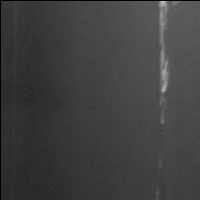scratches: (155, 1, 173, 125)
